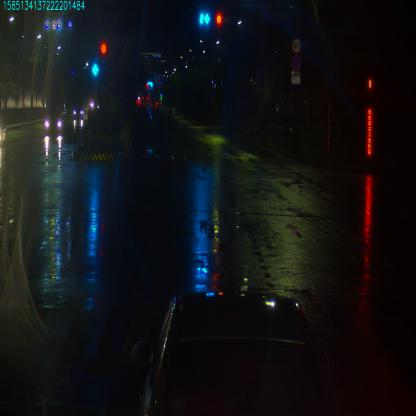traffic-light: (199, 9, 211, 27), (215, 12, 222, 26)
